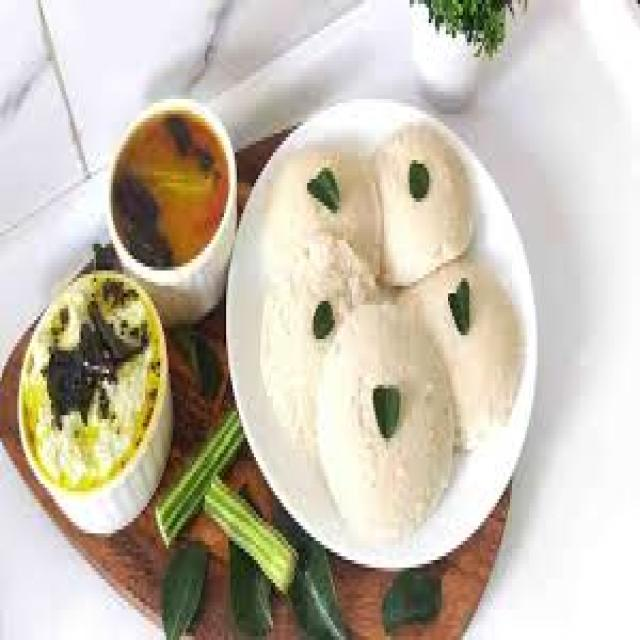IDLI: (259, 231, 376, 490), (318, 298, 448, 531), (395, 256, 520, 448), (371, 116, 473, 282), (262, 143, 379, 276)
